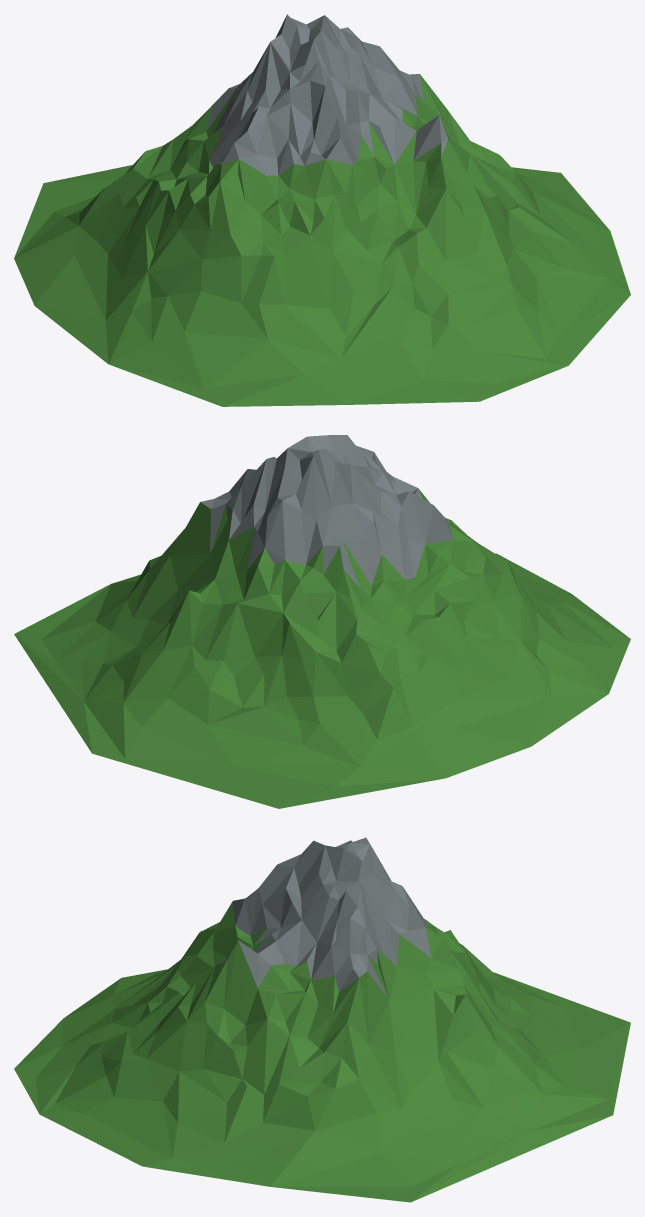
File: Terrain_B.fbx
The picture shows the model from 3 angles, top to bottom: view 1: azimuth 30°, elevation 25°; view 2: azimuth 150°, elevation 25°; view 3: azimuth 270°, elevation 25°; orthographic projection. The views are drawn at different scales.
Visible parts, largest first — view 1: Terrain_B; view 2: Terrain_B; view 3: Terrain_B.
Part boxes in pixels (x1,y1,x2,y2): Terrain_B: (14, 14, 630, 406); Terrain_B: (14, 435, 630, 808); Terrain_B: (14, 837, 630, 1202).
Bounding box in the file's own units: 13815 × 6090 × 14760.
